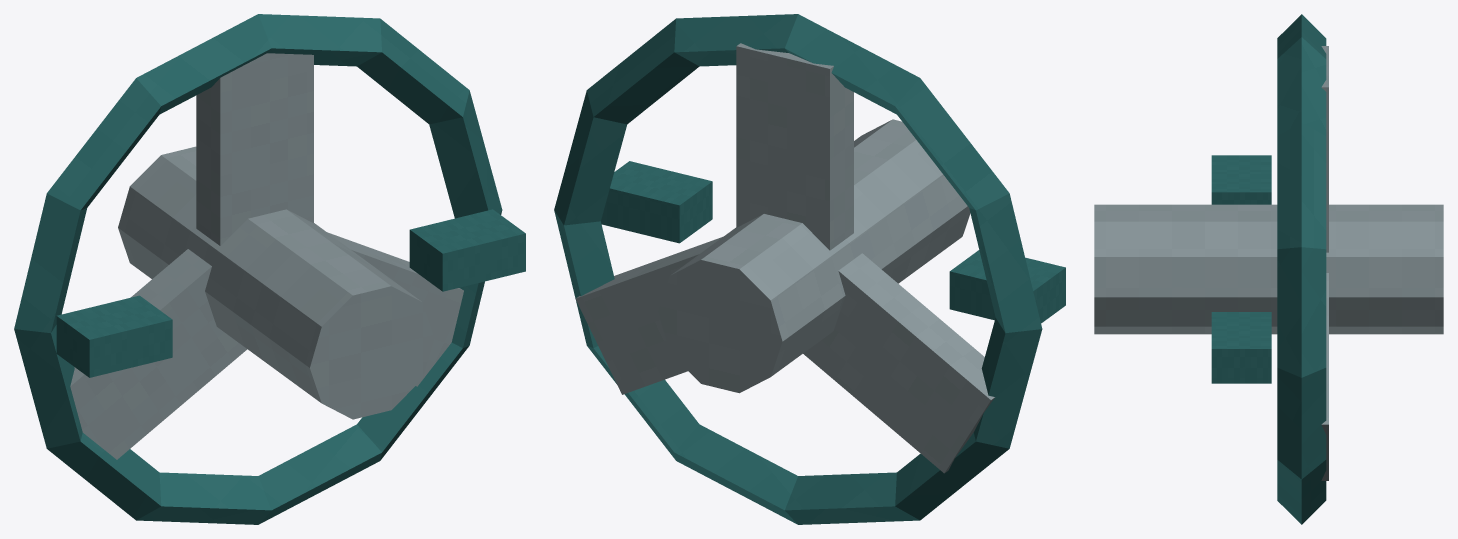
The model's file is propeller-lod-2.glb.
3 views of the same model, side by side, from view 1: azimuth 30°, elevation 25°; view 2: azimuth 150°, elevation 25°; view 3: azimuth 270°, elevation 25° (orthographic). The views are drawn at different scales.
Visible parts, largest first — view 1: propeller_lod_2; view 2: propeller_lod_2; view 3: propeller_lod_2.
Boxes of the visible parts, x1=… form: propeller_lod_2: x1=14, y1=14, x2=525, y2=524; propeller_lod_2: x1=554, y1=14, x2=1065, y2=524; propeller_lod_2: x1=1094, y1=14, x2=1443, y2=524.
Size of the model in its own units: 0.94 by 0.94 by 0.64.
1 material, 1 textured.
